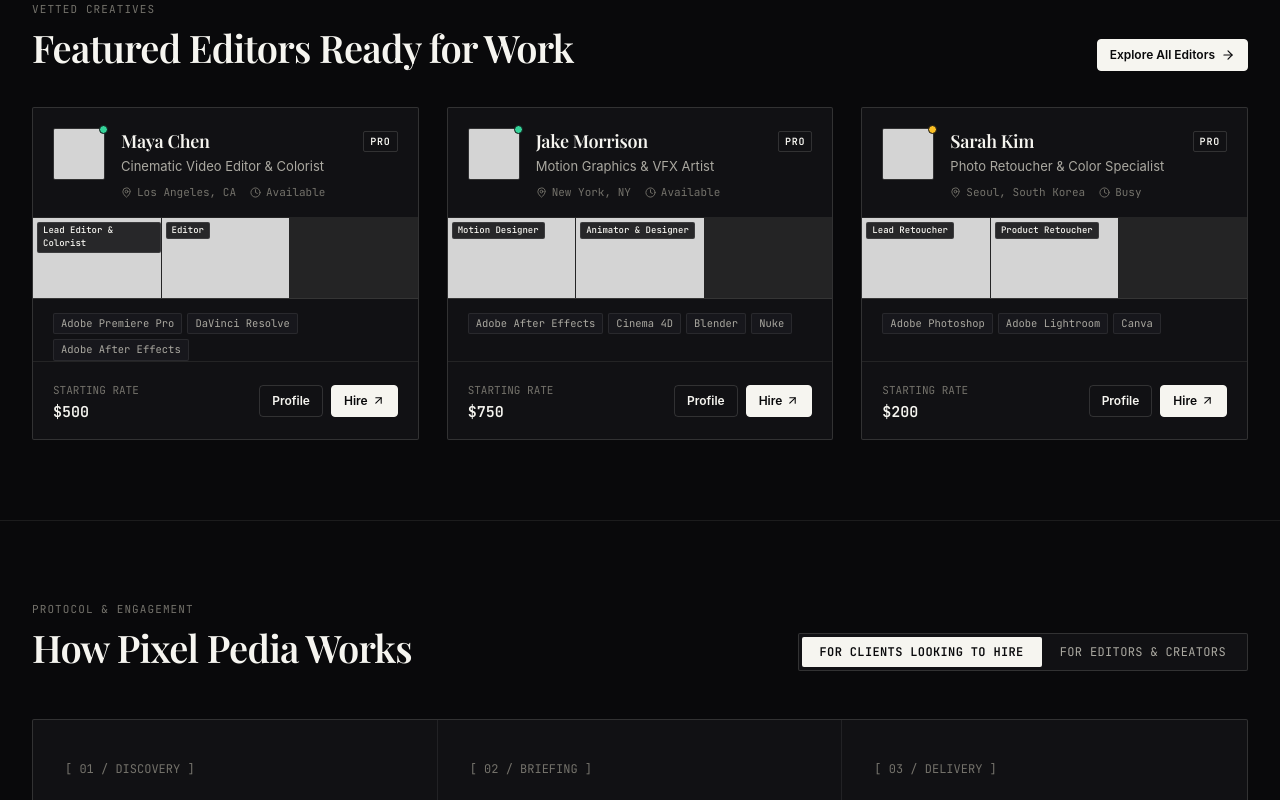
Test case: Pixel Pedia — Freelancing Marketplace Homepage & Discovery › renders featured editors and opens the structured project brief hire modal
(page scrolled)
Expected: the link "Maya Chen" is shown, left=121, top=128, right=210, bottom=156
Expected: the link "Jake Morrison" is shown, left=536, top=128, right=648, bottom=156
Click the button "Hire" in the row of "500" at (364, 400), box left=331, top=384, right=398, bottom=416
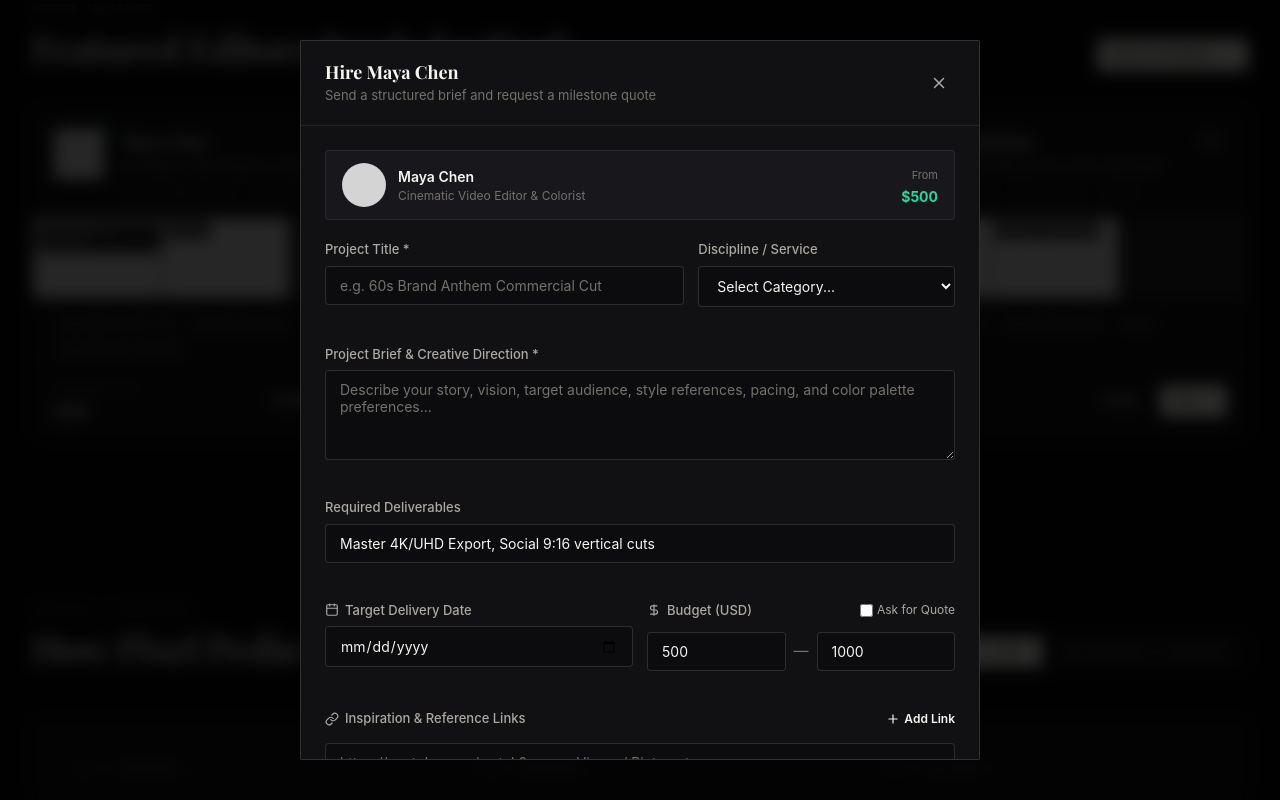
Expected: the text "Send a structured brief and request a milestone quote" is shown, left=325, top=86, right=656, bottom=105
Expected: the field labelled "Project Title *" is shown, left=325, top=266, right=684, bottom=304
Expected: the text box labelled "Project Brief & Creative Direction *" is shown, left=325, top=370, right=955, bottom=460
